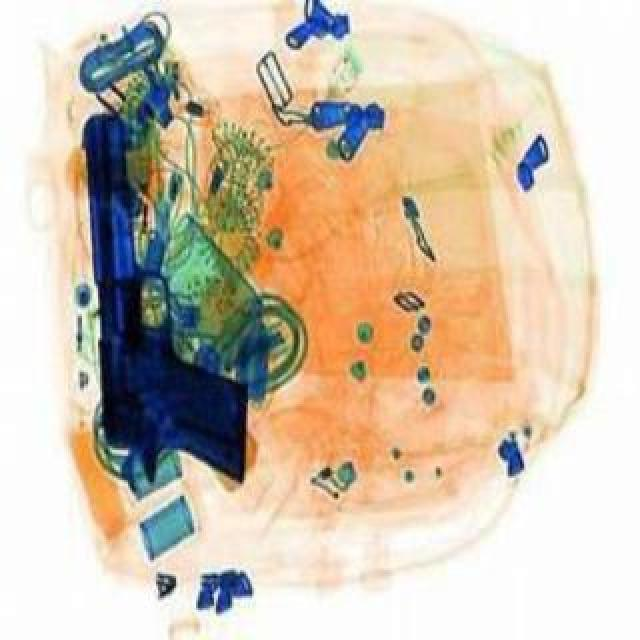gun: (78, 116, 250, 496)
